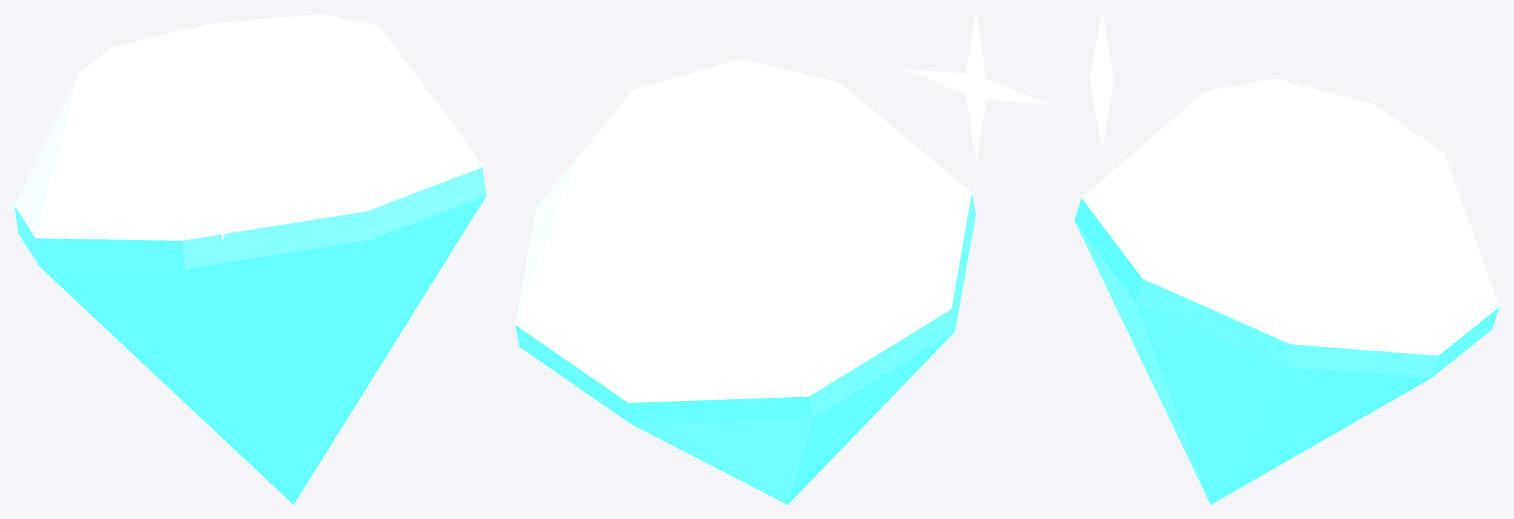
File: treat_gem.glb
The picture shows the model from 3 angles, left to right: view 1: azimuth 30°, elevation 25°; view 2: azimuth 150°, elevation 25°; view 3: azimuth 270°, elevation 25°; orthographic projection. The views are drawn at different scales.
Visible parts, largest first — view 1: treat_gem; view 2: treat_gem; view 3: treat_gem.
Boxes of the visible parts, <box> form: treat_gem: <box>14,14,486,504</box>; treat_gem: <box>515,14,1045,504</box>; treat_gem: <box>1074,14,1499,504</box>.
Bounding box in the file's own units: 0.42 × 0.4623 × 0.4106.
